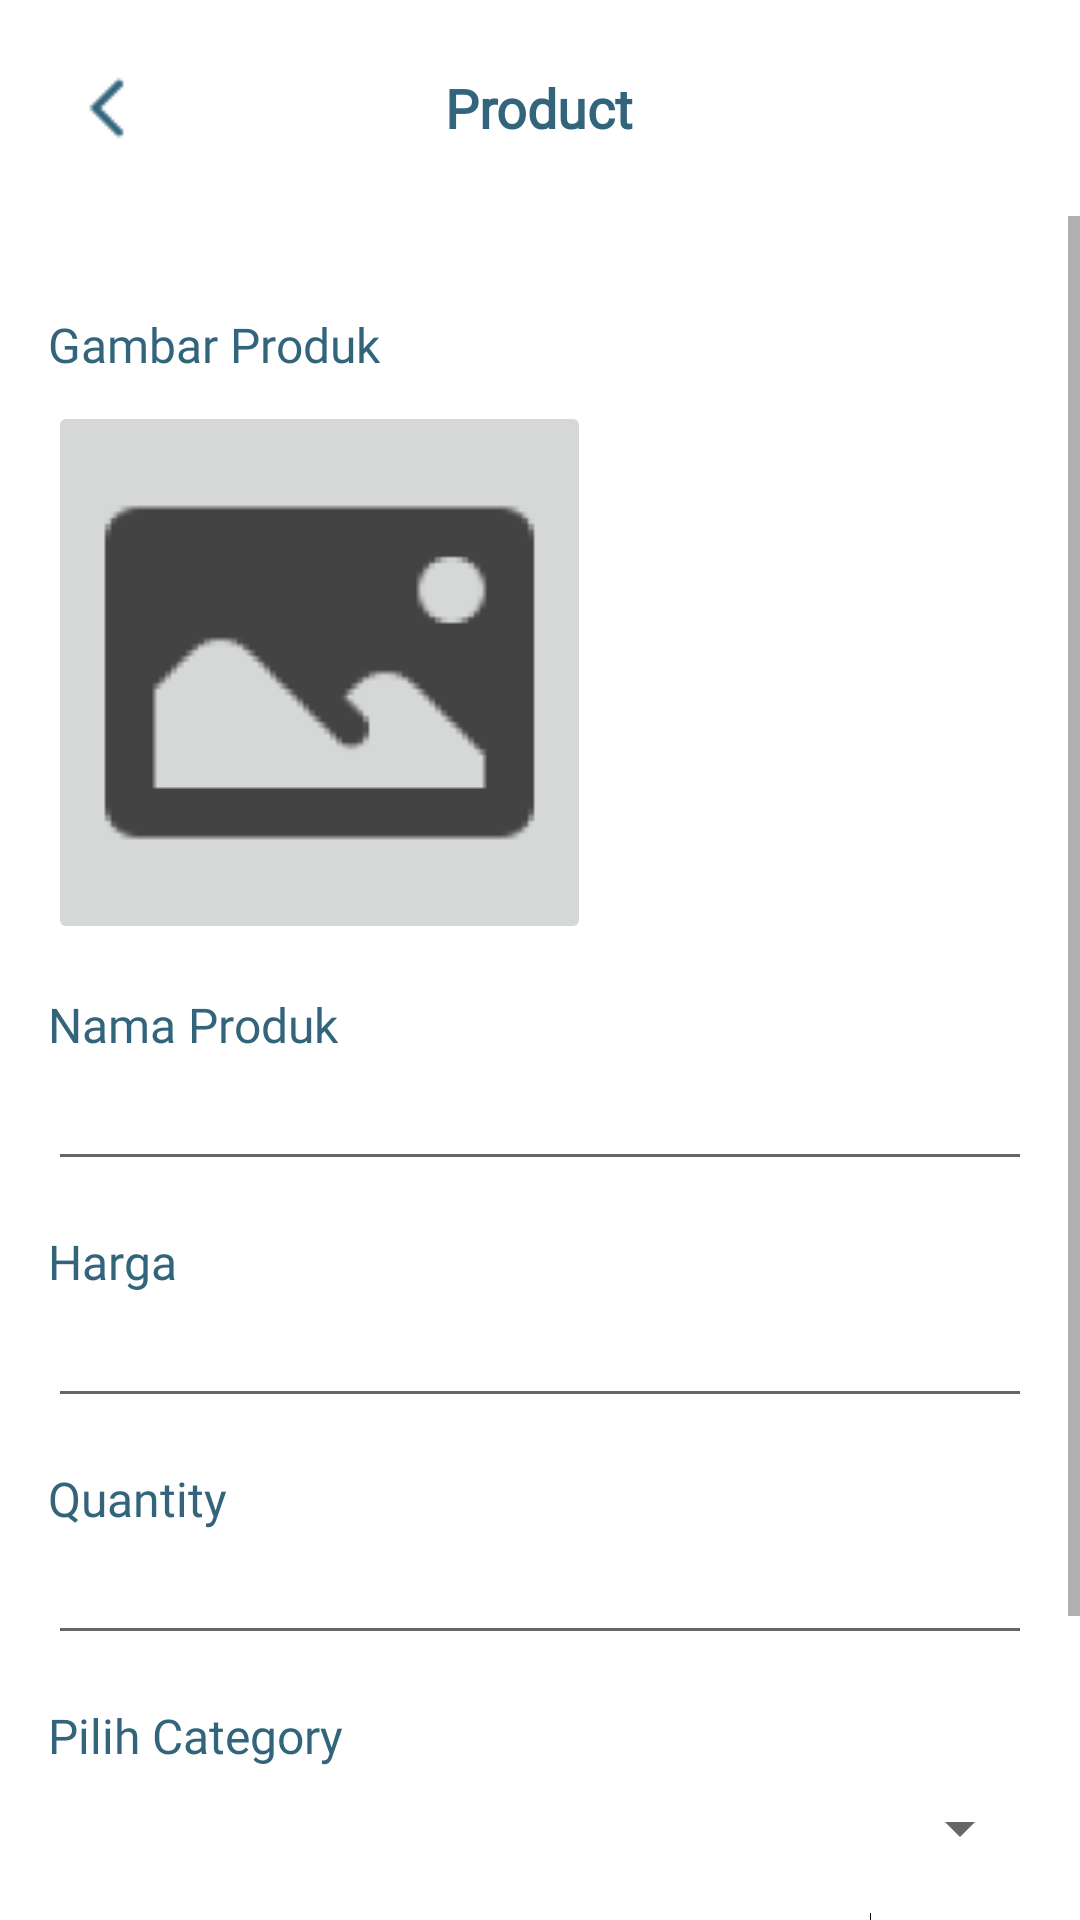

Icons on this 1080px x 1920px Android screen, each with the point to tap as [x,y]:
Back: [106,108]
